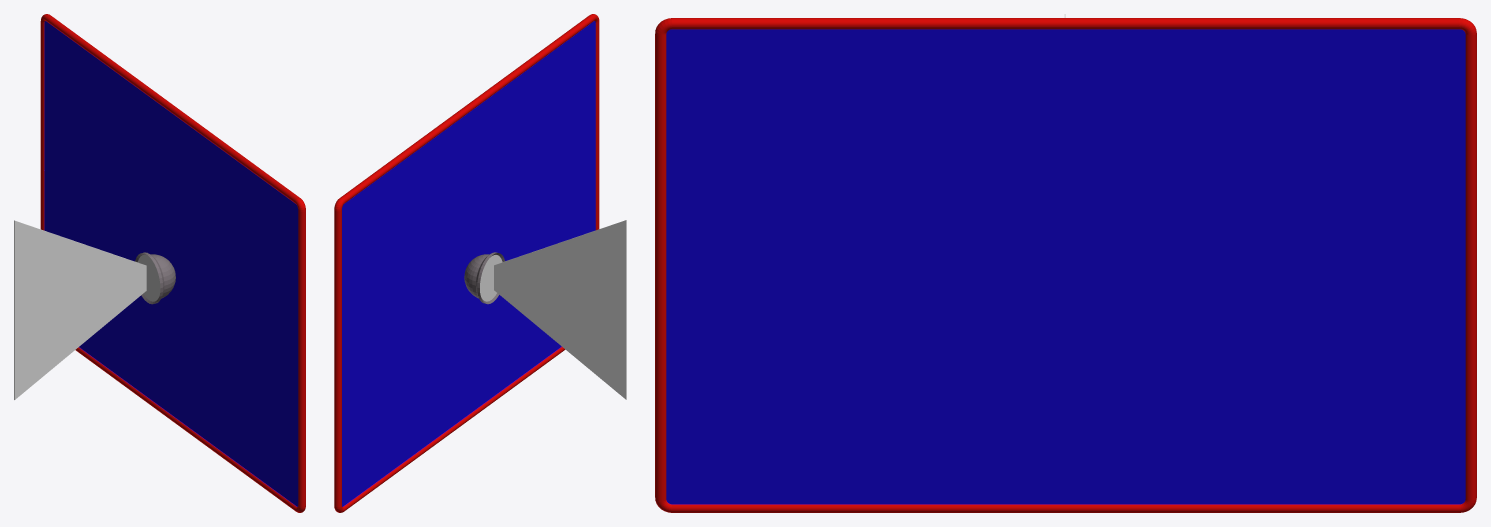
The model's file is Projection.fbx.
3 views of the same model, side by side, from view 1: azimuth 30°, elevation 25°; view 2: azimuth 150°, elevation 25°; view 3: azimuth 270°, elevation 25° (orthographic). The views are drawn at different scales.
Visible parts, largest first — view 1: Wall, Projection, Projector; view 2: Wall, Projection, Projector; view 3: Wall.
Boxes of the visible parts, x1,y1,x2,y2 form: Wall: (40,14,305,512); Projection: (14,220,146,399); Projector: (135,252,175,304); Wall: (334,14,599,512); Projection: (494,220,626,399); Projector: (464,252,504,304); Wall: (655,18,1476,512).
Bounding box in the file's own units: 140 × 257 × 388.
